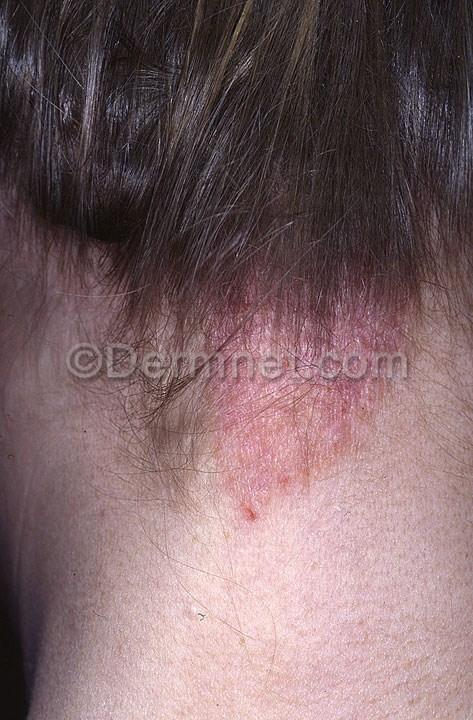Eczema: (171, 262, 418, 525)
